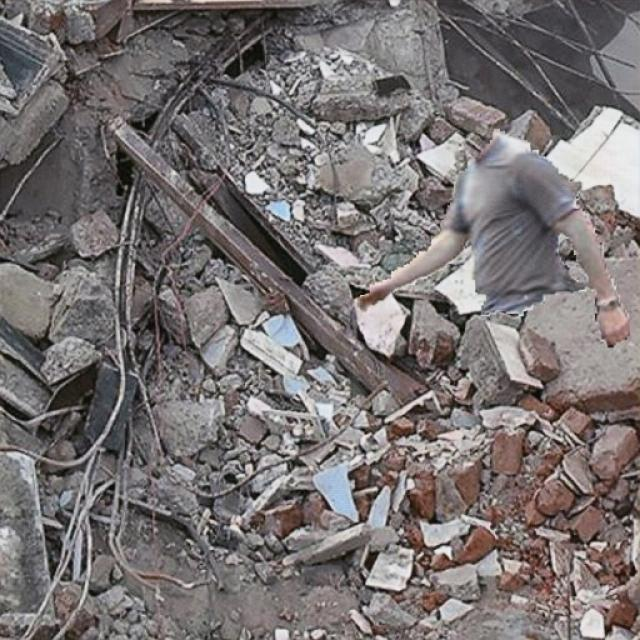Person in Rubble: (358, 128, 628, 346)
